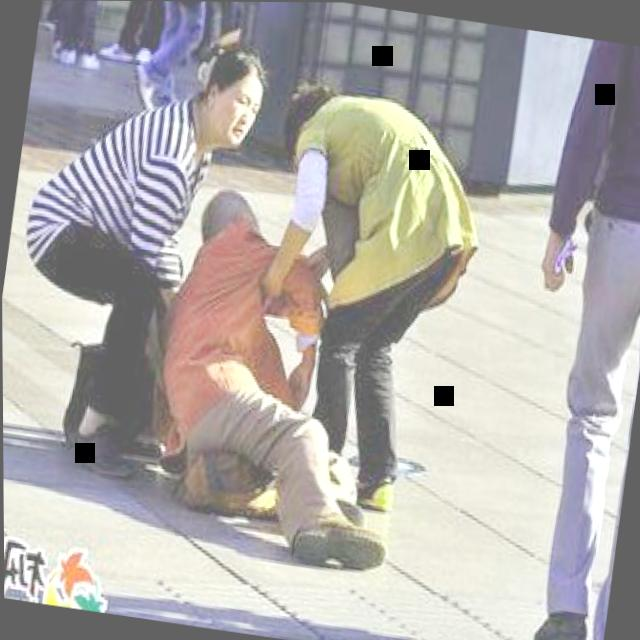Fall-Detected: (129, 169, 440, 572)
